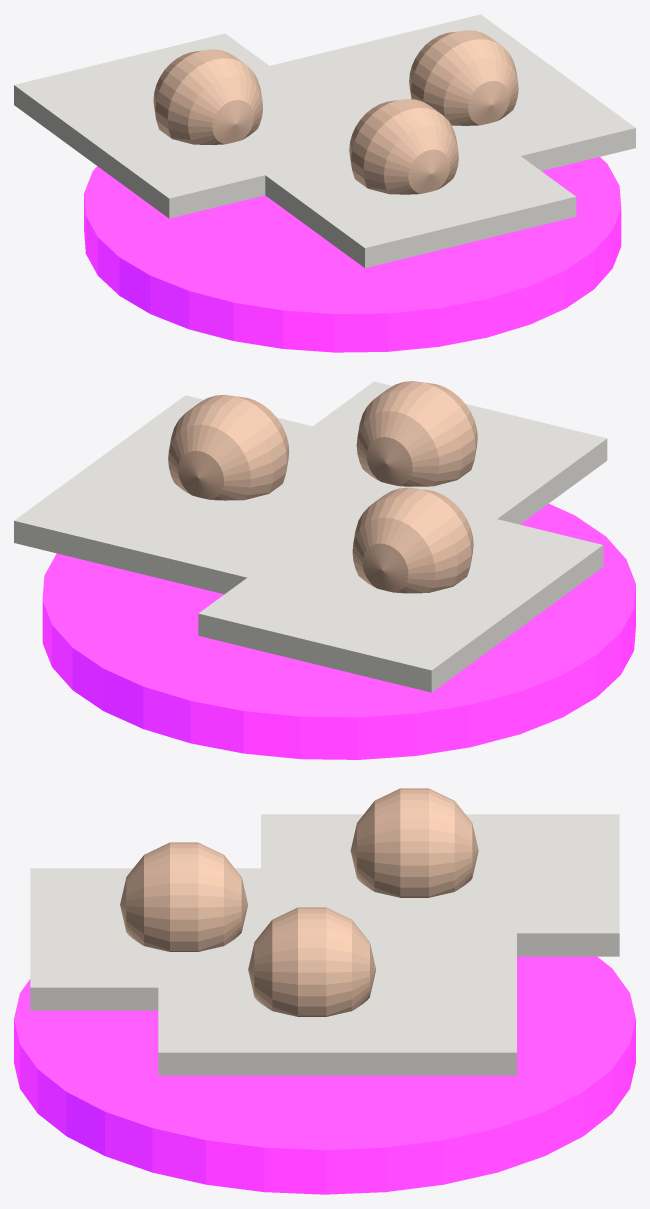
The model's file is modelling_headshots.glb.
The picture shows the model from 3 angles, top to bottom: view 1: azimuth 30°, elevation 25°; view 2: azimuth 150°, elevation 25°; view 3: azimuth 270°, elevation 25°; orthographic projection. The views are drawn at different scales.
Visible parts, largest first — view 1: 05_13_Popular_Modelling_Headshots_ROOT_base, 05_13_Popular_Modelling_Headshots_part_01, 05_13_Popular_Modelling_Headshots_part_05, 05_13_Popular_Modelling_Headshots_part_03, 05_13_Popular_Modelling_Headshots_part_06, 05_13_Popular_Modelling_Headshots_part_02, 05_13_Popular_Modelling_Headshots_part_04; view 2: 05_13_Popular_Modelling_Headshots_ROOT_base, 05_13_Popular_Modelling_Headshots_part_01, 05_13_Popular_Modelling_Headshots_part_03, 05_13_Popular_Modelling_Headshots_part_05, 05_13_Popular_Modelling_Headshots_part_02, 05_13_Popular_Modelling_Headshots_part_06, 05_13_Popular_Modelling_Headshots_part_04; view 3: 05_13_Popular_Modelling_Headshots_ROOT_base, 05_13_Popular_Modelling_Headshots_part_03, 05_13_Popular_Modelling_Headshots_part_01, 05_13_Popular_Modelling_Headshots_part_05, 05_13_Popular_Modelling_Headshots_part_02, 05_13_Popular_Modelling_Headshots_part_06, 05_13_Popular_Modelling_Headshots_part_04.
Part boxes in pixels (x1,y1,x2,y2): 05_13_Popular_Modelling_Headshots_ROOT_base: (84, 157, 621, 352); 05_13_Popular_Modelling_Headshots_part_01: (14, 33, 354, 218); 05_13_Popular_Modelling_Headshots_part_05: (265, 126, 576, 268); 05_13_Popular_Modelling_Headshots_part_03: (270, 14, 635, 171); 05_13_Popular_Modelling_Headshots_part_06: (349, 99, 458, 194); 05_13_Popular_Modelling_Headshots_part_02: (153, 49, 262, 144); 05_13_Popular_Modelling_Headshots_part_04: (409, 30, 518, 125); 05_13_Popular_Modelling_Headshots_ROOT_base: (42, 503, 635, 759); 05_13_Popular_Modelling_Headshots_part_01: (198, 493, 603, 692); 05_13_Popular_Modelling_Headshots_part_03: (14, 395, 378, 594); 05_13_Popular_Modelling_Headshots_part_05: (228, 381, 607, 543); 05_13_Popular_Modelling_Headshots_part_02: (352, 487, 473, 593); 05_13_Popular_Modelling_Headshots_part_06: (356, 381, 477, 486); 05_13_Popular_Modelling_Headshots_part_04: (168, 394, 289, 500); 05_13_Popular_Modelling_Headshots_ROOT_base: (14, 956, 635, 1194); 05_13_Popular_Modelling_Headshots_part_03: (158, 933, 516, 1075); 05_13_Popular_Modelling_Headshots_part_01: (261, 814, 619, 956); 05_13_Popular_Modelling_Headshots_part_05: (30, 868, 388, 1010); 05_13_Popular_Modelling_Headshots_part_02: (350, 788, 478, 897); 05_13_Popular_Modelling_Headshots_part_06: (120, 842, 247, 951); 05_13_Popular_Modelling_Headshots_part_04: (248, 907, 376, 1016).
Bounding box in the file's own units: 0.76 × 0.2826 × 0.76.
